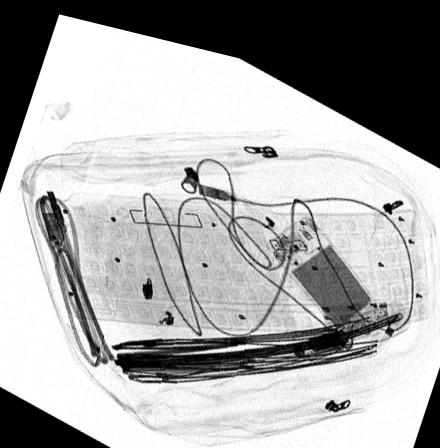Powerbank: (266, 201, 380, 315)
